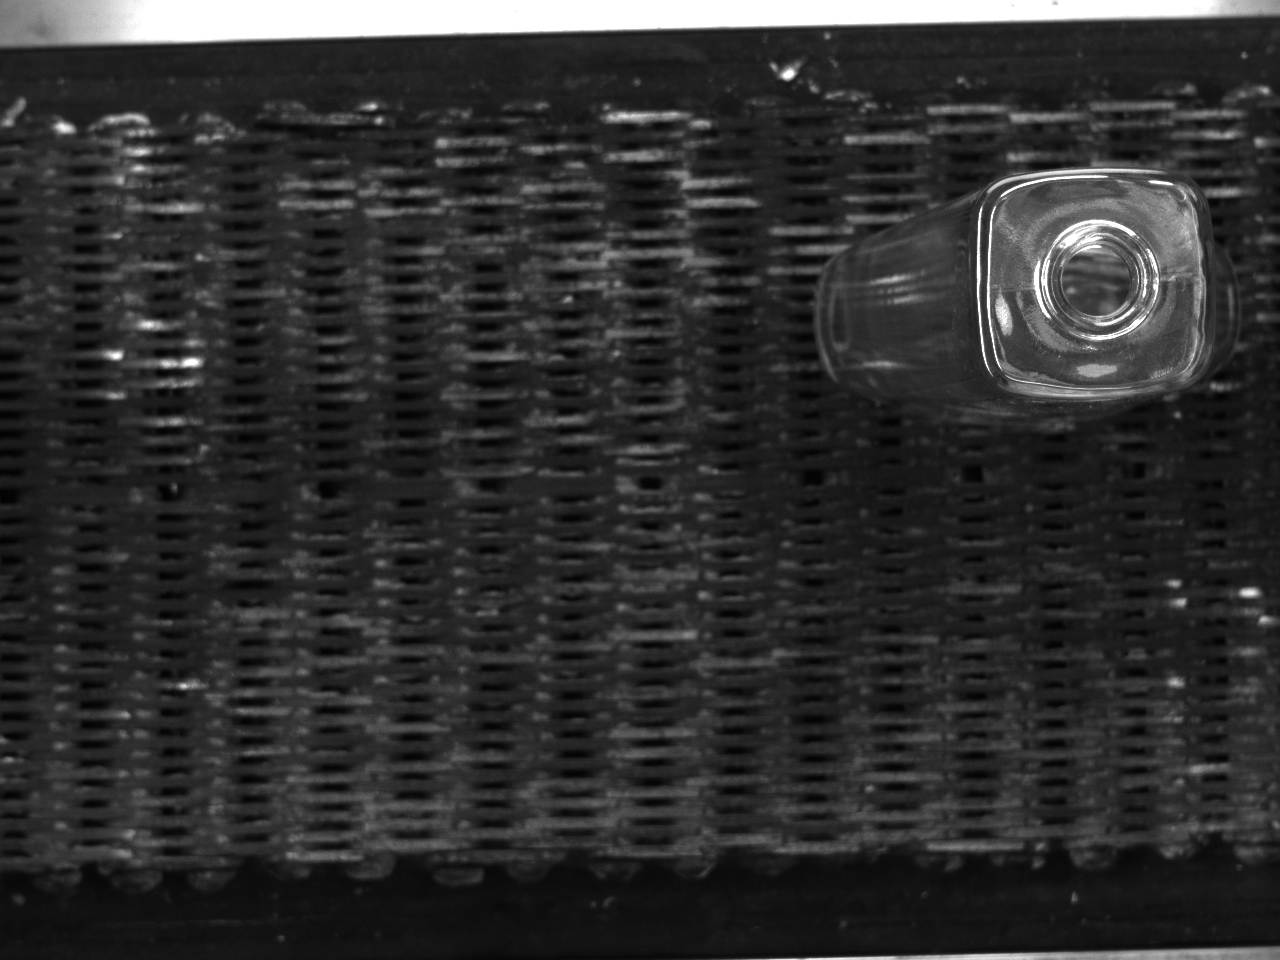bottleneck: (1045, 220, 1158, 339)
